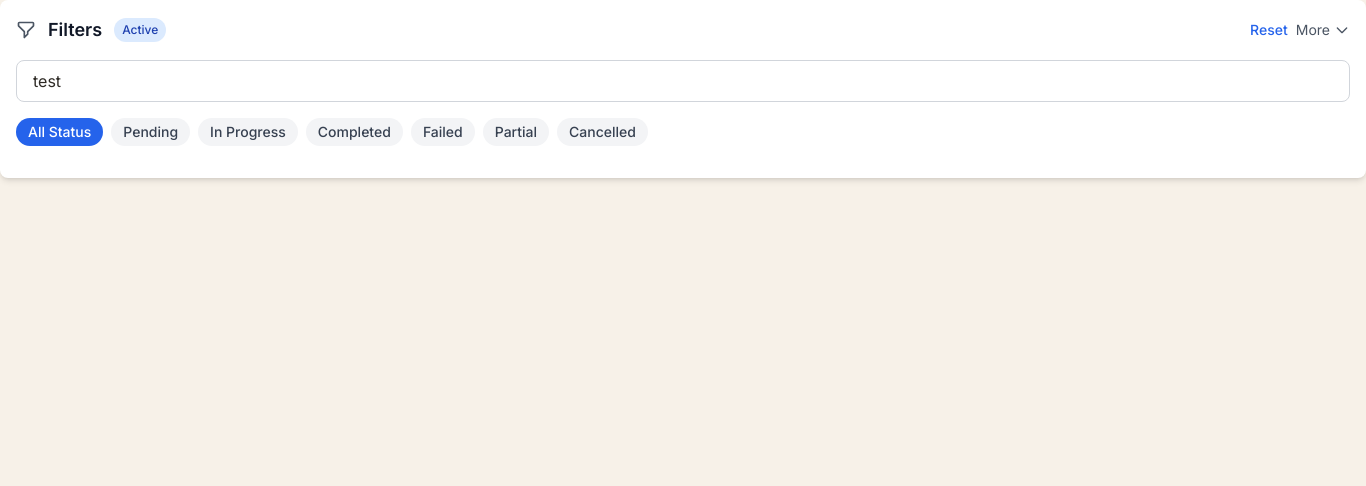
Scenario: AdvancedJobFilters › Active Filters Summary (Expanded) › should show active filters summary when expanded and filters are active
The width and height of the screenshot is (1366, 486).
Step 1. Click the button "More" → x=1323, y=30, box [1296, 20, 1350, 40]
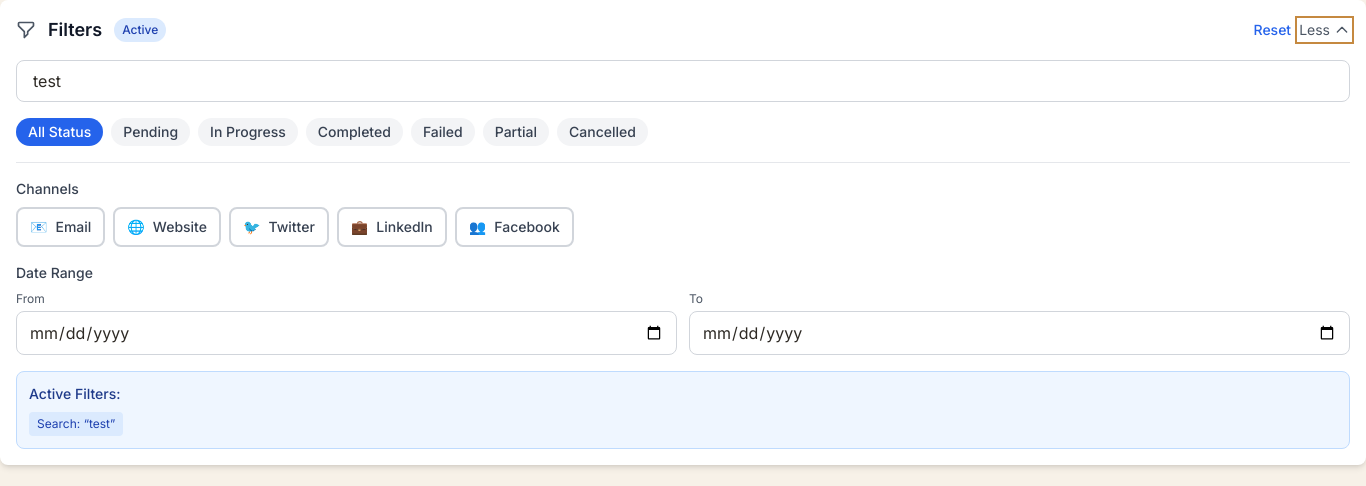
Expected: the text "Active Filters:" is shown, [29, 385, 120, 402]
